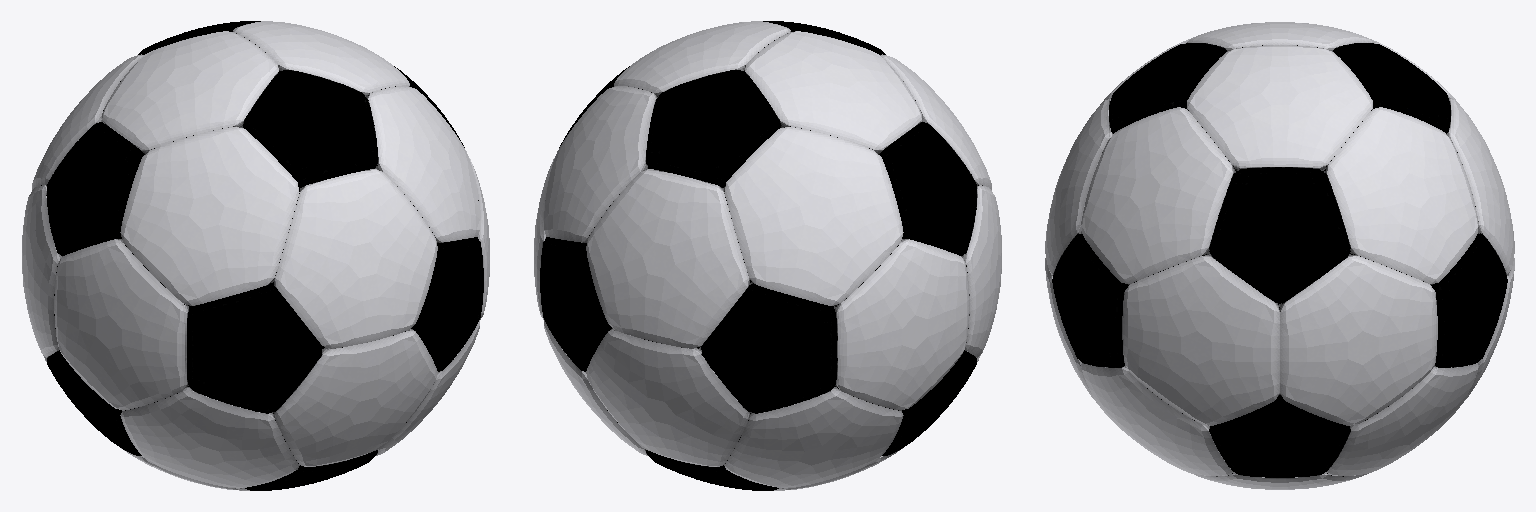
3 views of the same model, side by side, from view 1: azimuth 30°, elevation 25°; view 2: azimuth 150°, elevation 25°; view 3: azimuth 270°, elevation 25° (orthographic).
Parts seen in each view (by area): view 1: Hedra001; view 2: Hedra001; view 3: Hedra001.
Boxes of the visible parts, x1=… form: Hedra001: x1=22, y1=21, x2=489, y2=490; Hedra001: x1=534, y1=21, x2=1001, y2=490; Hedra001: x1=1045, y1=22, x2=1514, y2=489.
Size of the model in its own units: 44.19 by 44.19 by 44.19.
1 materials, 1 textured.